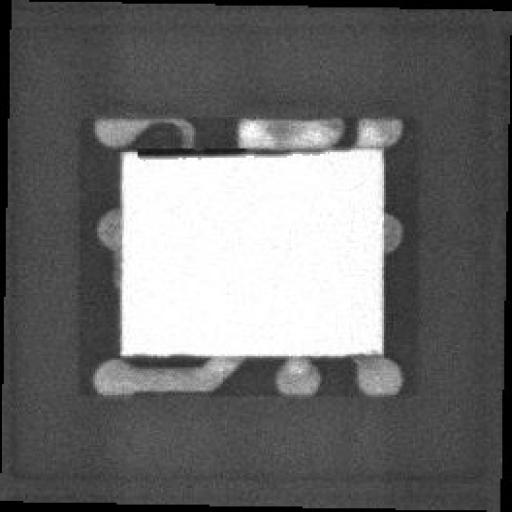DIE_BROKEN: (132, 139, 268, 162)
